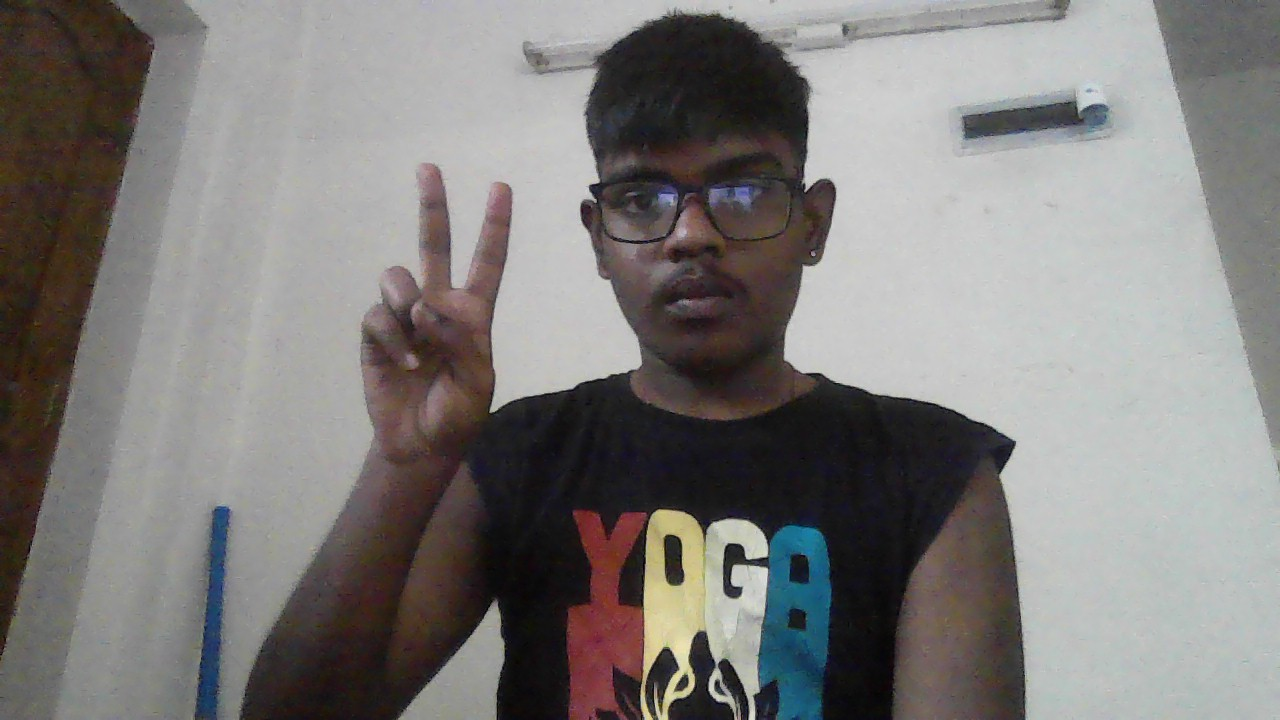V: (361, 165, 511, 468)
